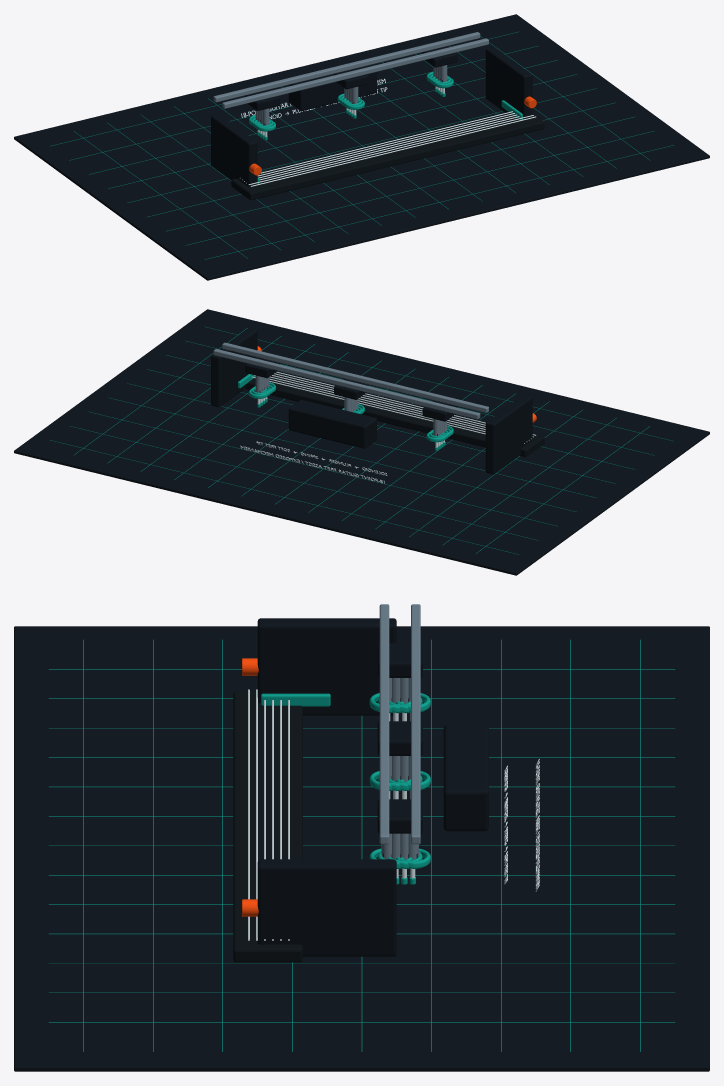
Rendered from guitar_fret_assist_mechanical_v2.obj.
The picture shows the model from 3 angles, top to bottom: view 1: azimuth 30°, elevation 25°; view 2: azimuth 150°, elevation 25°; view 3: azimuth 270°, elevation 25°; orthographic projection. The views are drawn at different scales.
Parts seen in each view (by area): view 1: Floor, Fretboard_cross_section, Clamp_jaw_A, Clamp_jaw_B, Rail_right, Rail_left, Driver_board_enclosure, String, String.001, Grid.015, Grid.014, Grid.013 (+4 smaller); view 2: Floor, Fretboard_cross_section, Driver_board_enclosure, Clamp_jaw_A, Rail_right, Rail_left, Clamp_jaw_B, Grid.018, Grid.021, Grid.020, Grid.019; view 3: Floor, Clamp_jaw_B, Fretboard_cross_section, Clamp_jaw_A, Driver_board_enclosure, Rail_left, Rail_right, Carriage.002, Carriage, Carriage.001, Grid.009, TPU_liner_A (+1 smaller).
Part boxes in pixels (<box>): Floor: <box>14,14,709,280</box>; Fretboard_cross_section: <box>231,113,544,200</box>; Clamp_jaw_A: <box>211,114,257,186</box>; Clamp_jaw_B: <box>485,47,532,119</box>; Rail_right: <box>213,32,480,102</box>; Rail_left: <box>222,38,488,108</box>; Driver_board_enclosure: <box>288,65,376,110</box>; String: <box>250,116,535,186</box>; String.001: <box>248,115,533,185</box>; Grid.015: <box>166,116,635,231</box>; Grid.014: <box>185,131,654,245</box>; Grid.013: <box>205,145,673,259</box>; Floor: <box>14,309,709,575</box>; Fretboard_cross_section: <box>245,371,544,457</box>; Driver_board_enclosure: <box>288,400,376,448</box>; Clamp_jaw_A: <box>485,395,532,474</box>; Rail_right: <box>213,349,480,419</box>; Rail_left: <box>222,342,488,412</box>; Clamp_jaw_B: <box>211,328,257,407</box>; Grid.018: <box>108,397,576,511</box>; Grid.021: <box>50,440,518,554</box>; Grid.020: <box>69,426,538,540</box>; Grid.019: <box>88,411,557,526</box>; Floor: <box>14,626,709,1071</box>; Clamp_jaw_B: <box>257,859,396,956</box>; Fretboard_cross_section: <box>233,691,302,962</box>; Clamp_jaw_A: <box>257,618,396,715</box>; Driver_board_enclosure: <box>443,725,488,831</box>; Rail_left: <box>379,604,389,844</box>; Rail_right: <box>411,604,420,844</box>; Carriage.002: <box>377,799,422,833</box>; Carriage: <box>377,643,422,677</box>; Carriage.001: <box>377,721,422,755</box>; Grid.009: <box>49,933,674,934</box>; TPU_liner_A: <box>261,693,330,706</box>.
Bounding box in the file's own units: 30 × 4.17 × 20.
